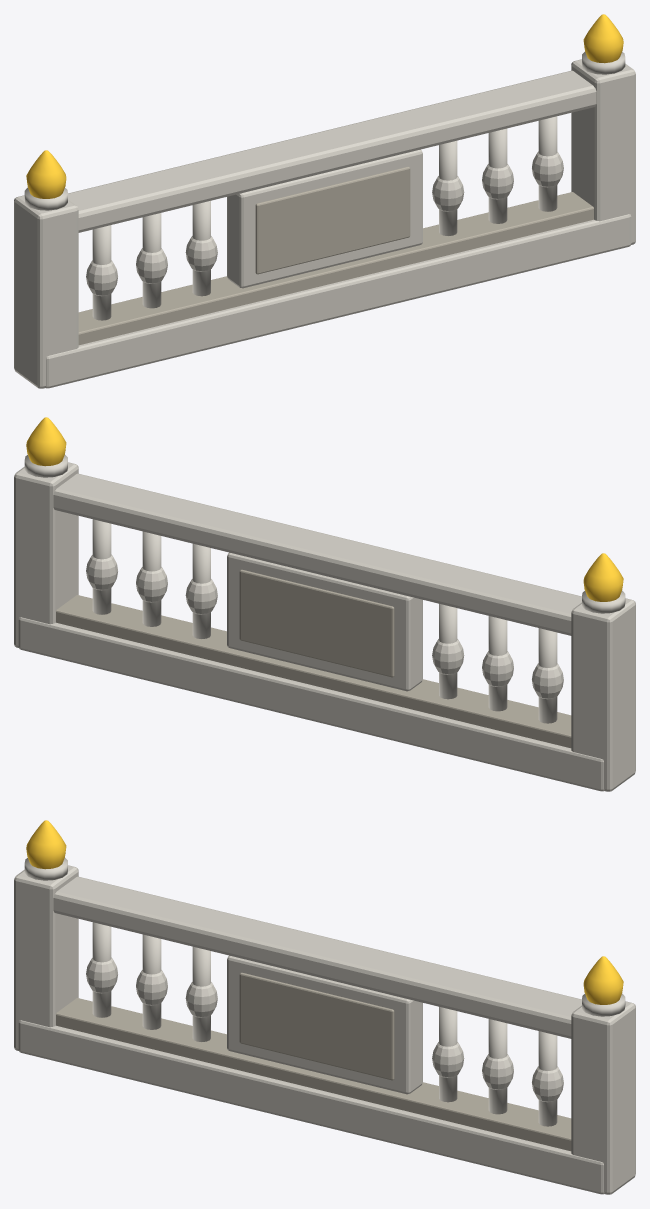
File: lan_can_da_sen.glb
3 renders of one model, top to bottom at view 1: azimuth 30°, elevation 25°; view 2: azimuth 150°, elevation 25°; view 3: azimuth 330°, elevation 25°, orthographic.
Visible parts, largest first — view 1: TopHandrail, RailBase, RailSubBase, CenterPanelRecess, EndPillar_-1, EndPillar_1, CenterPanelFrame, StoneLotus_1_bud, StoneLotus_-1_bud, ColShaft_1.18, ColShaft_1.52, ColShaft_-1.18 (+11 smaller); view 2: TopHandrail, RailBase, RailSubBase, CenterPanelRecess, EndPillar_-1, EndPillar_1, CenterPanelFrame, StoneLotus_1_bud, StoneLotus_-1_bud, ColShaft_1.18, ColShaft_1.52, ColShaft_-1.18 (+11 smaller); view 3: TopHandrail, RailBase, RailSubBase, CenterPanelRecess, EndPillar_1, EndPillar_-1, CenterPanelFrame, StoneLotus_-1_bud, StoneLotus_1_bud, ColShaft_-1.18, ColShaft_1.18, ColShaft_-1.52 (+11 smaller).
Boxes of the visible parts, <box> form: TopHandrail: <box>68,70,596,232</box>; RailBase: <box>45,214,631,388</box>; RailSubBase: <box>78,192,593,345</box>; CenterPanelRecess: <box>255,166,410,274</box>; EndPillar_-1: <box>14,195,78,388</box>; EndPillar_1: <box>571,59,635,244</box>; CenterPanelFrame: <box>227,149,422,288</box>; StoneLotus_1_bud: <box>583,14,623,63</box>; StoneLotus_-1_bud: <box>26,150,66,198</box>; ColShaft_1.18: <box>488,128,507,223</box>; ColShaft_1.52: <box>538,116,557,211</box>; ColShaft_-1.18: <box>142,213,161,308</box>; TopHandrail: <box>53,473,581,635</box>; RailBase: <box>18,617,604,791</box>; RailSubBase: <box>56,595,571,748</box>; CenterPanelRecess: <box>239,569,394,677</box>; EndPillar_-1: <box>571,598,635,791</box>; EndPillar_1: <box>14,462,78,647</box>; CenterPanelFrame: <box>227,552,422,691</box>; StoneLotus_1_bud: <box>26,417,66,466</box>; StoneLotus_-1_bud: <box>583,553,623,601</box>; ColShaft_1.18: <box>142,531,161,626</box>; ColShaft_1.52: <box>92,519,111,614</box>; ColShaft_-1.18: <box>488,616,507,711</box>; TopHandrail: <box>53,876,581,1038</box>; RailBase: <box>18,1020,604,1194</box>; RailSubBase: <box>56,998,571,1151</box>; CenterPanelRecess: <box>239,972,394,1080</box>; EndPillar_1: <box>571,1001,635,1194</box>; EndPillar_-1: <box>14,865,78,1050</box>; CenterPanelFrame: <box>227,955,422,1094</box>; StoneLotus_-1_bud: <box>26,820,66,869</box>; StoneLotus_1_bud: <box>583,956,623,1004</box>; ColShaft_-1.18: <box>142,934,161,1029</box>; ColShaft_1.18: <box>488,1019,507,1114</box>; ColShaft_-1.52: <box>92,922,111,1017</box>.
Bounding box in the file's own units: 4.08 × 1.47 × 0.34.
